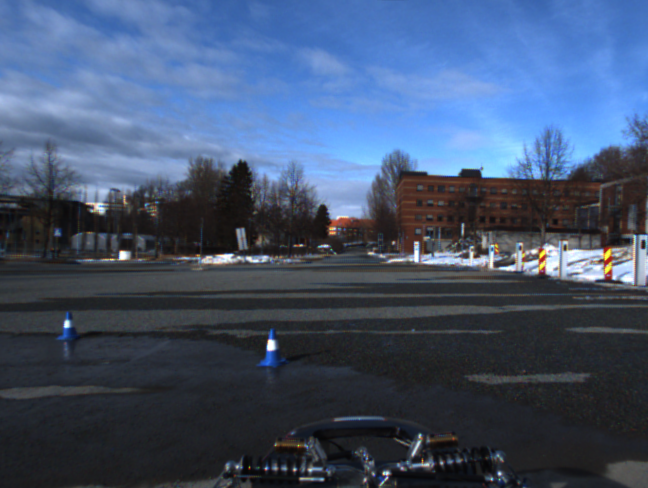cone-small-blue: (256, 328, 290, 368), (55, 311, 80, 341)
